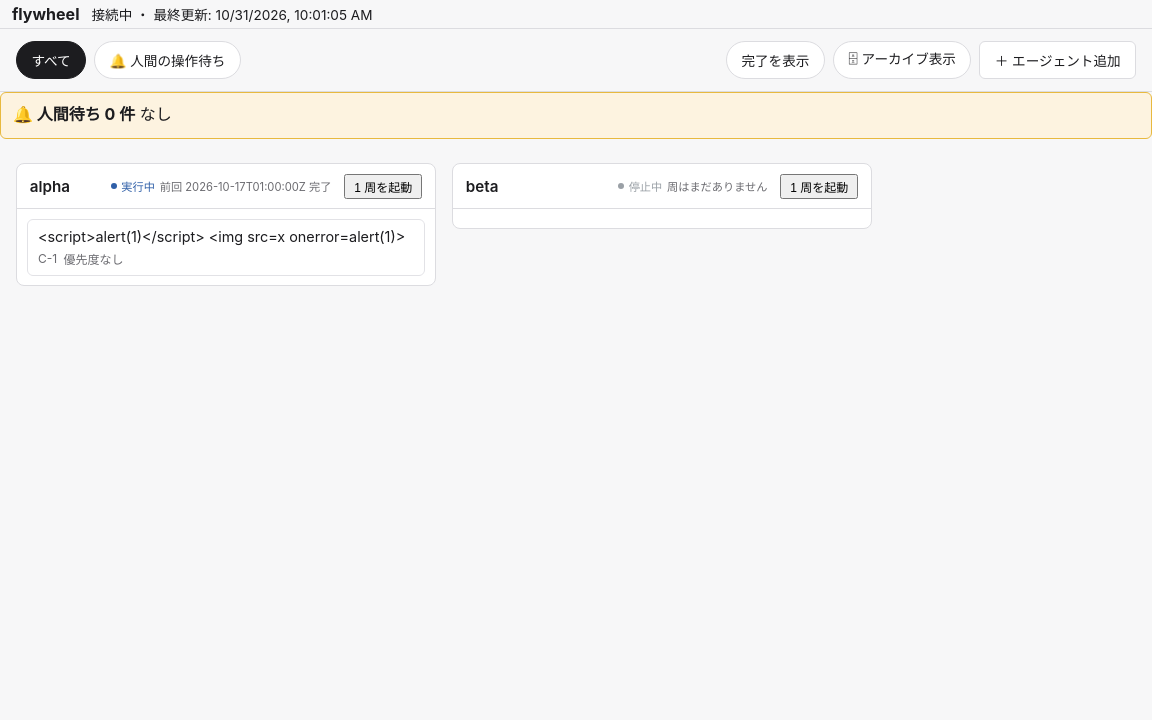
Test case: AC-119: 外部由来の文字列は文字として出し、script 要素と onerror 属性が DOM に無い
Click the 8th button at (226, 247), box [28, 220, 424, 275]
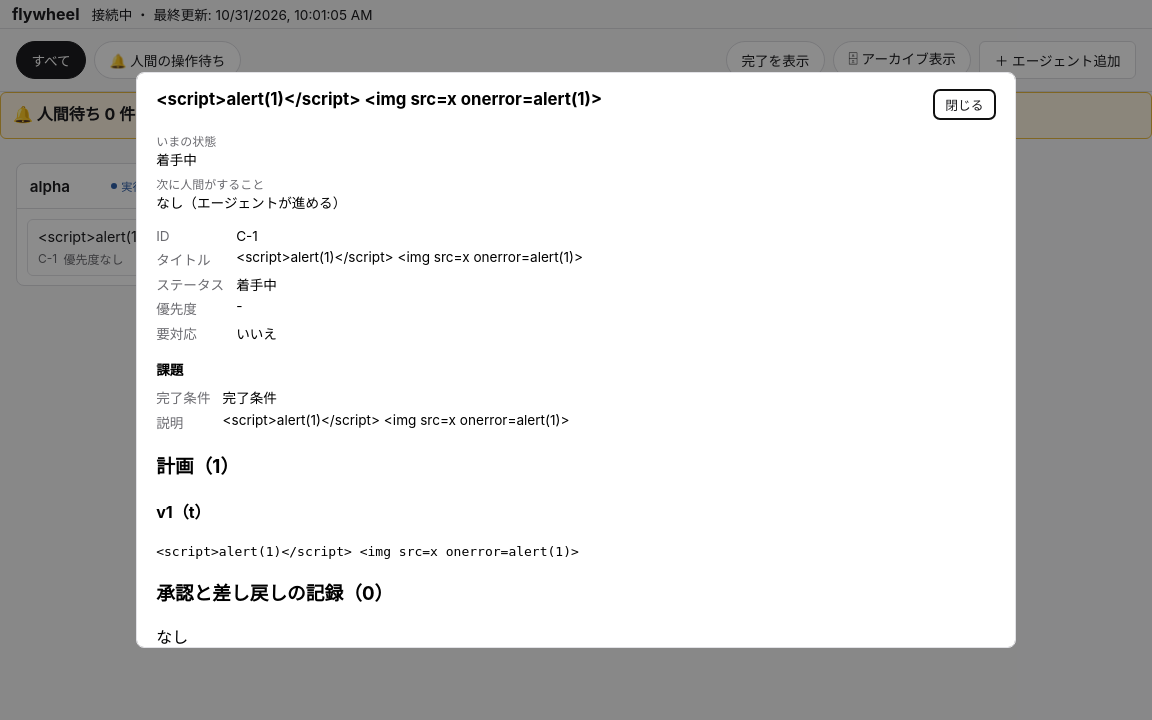
Expected: the element with test id "card-detail-content" shows "onerror=alert(1)", [156, 89, 602, 109]
